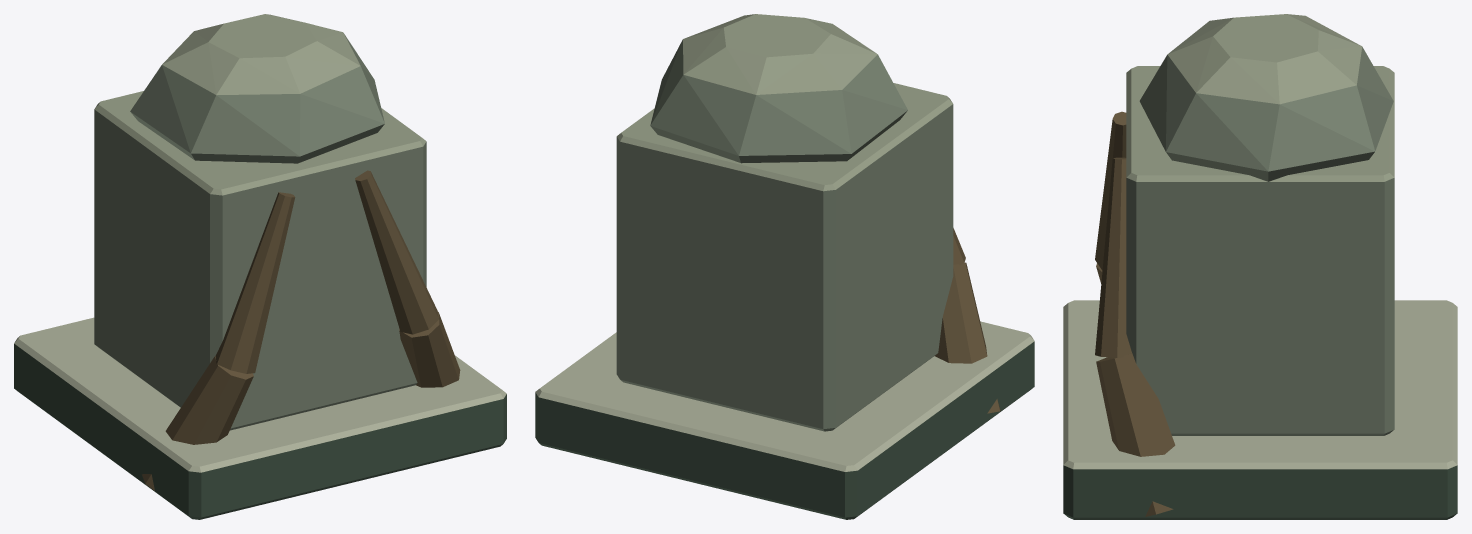
File: pillar-broken.glb
3 views of the same model, side by side, from view 1: azimuth 30°, elevation 25°; view 2: azimuth 150°, elevation 25°; view 3: azimuth 270°, elevation 25° (orthographic). The views are drawn at different scales.
Parts seen in each view (by area): view 1: pillar-broken__body; view 2: pillar-broken__body; view 3: pillar-broken__body.
Boxes of the visible parts, x1,y1,x2,y2 form: pillar-broken__body: [14, 14, 506, 519]; pillar-broken__body: [535, 14, 1034, 519]; pillar-broken__body: [1063, 14, 1457, 519].
Bounding box in the file's own units: 1.03 × 1.17 × 1.
